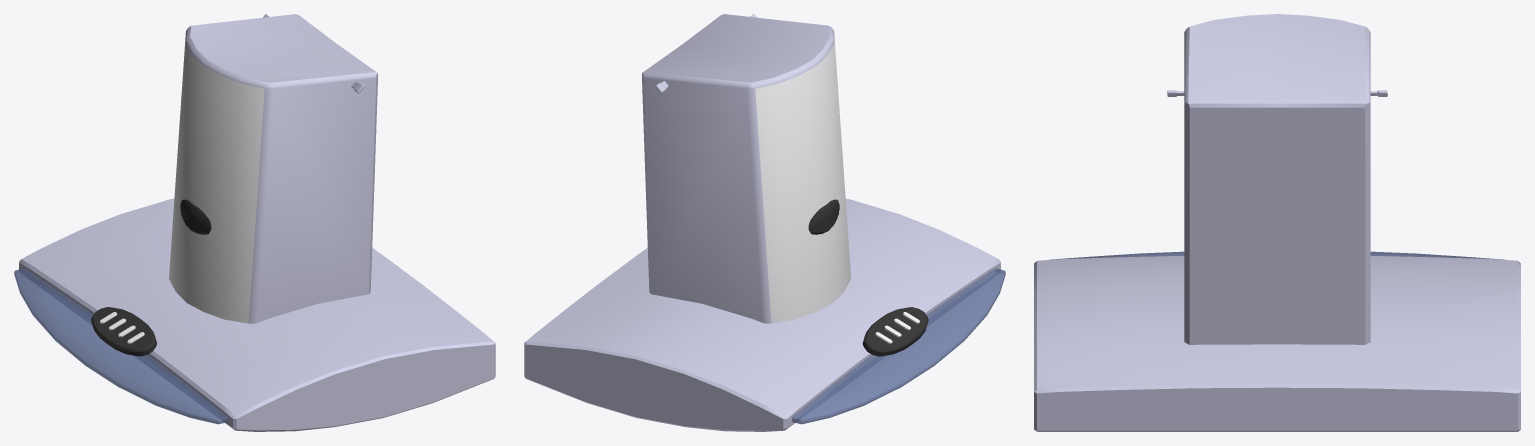
File: SmokeMachine01.FBX
3 renders of one model, left to right at view 1: azimuth 30°, elevation 25°; view 2: azimuth 150°, elevation 25°; view 3: azimuth 270°, elevation 25°, orthographic. The views are drawn at different scales.
Visible parts, largest first — view 1: SmokeMachine01; view 2: SmokeMachine01; view 3: SmokeMachine01.
Boxes of the visible parts, left/top/right/bottom form: SmokeMachine01: left=14, top=14, right=495, bottom=431; SmokeMachine01: left=524, top=14, right=1005, bottom=431; SmokeMachine01: left=1034, top=14, right=1520, bottom=431.
Size of the model in its own units: 81.07 by 99.99 by 82.48.
